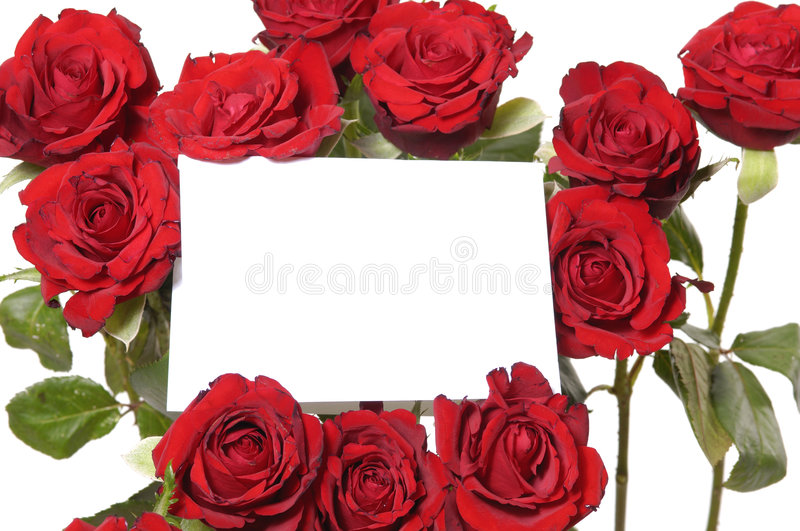RedRose: (424, 359, 618, 531), (16, 153, 201, 310), (158, 359, 325, 531), (358, 1, 529, 163), (150, 22, 348, 159), (540, 33, 709, 190), (546, 182, 687, 367), (6, 0, 170, 149), (315, 403, 448, 531)
